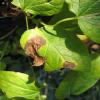Tomato leaf bacterial spot: (16, 25, 92, 73)
